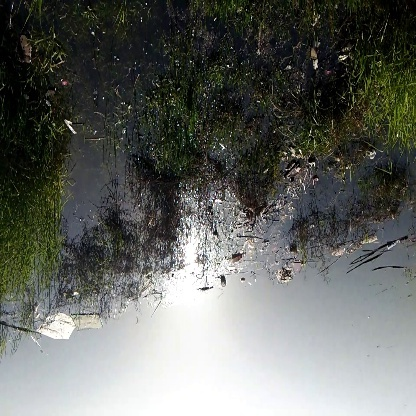branch: (348, 234, 408, 282)
